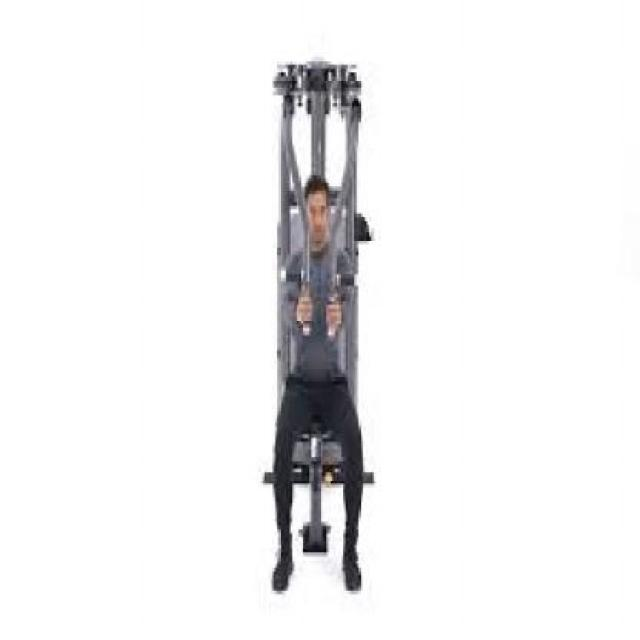chest fly machine: (256, 44, 382, 614)
